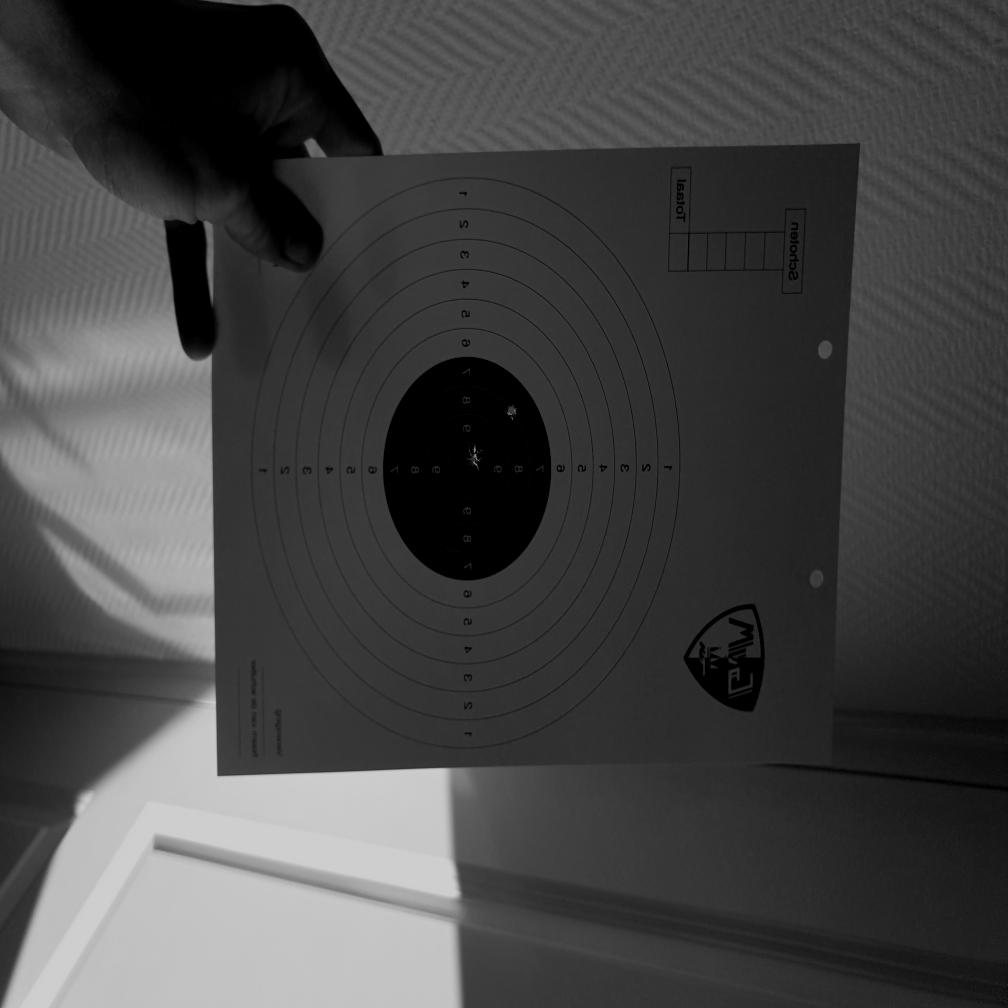10: (466, 443, 484, 472)
8: (504, 403, 517, 421)
Target: (250, 173, 680, 751)
black_contour: (383, 356, 552, 581)
